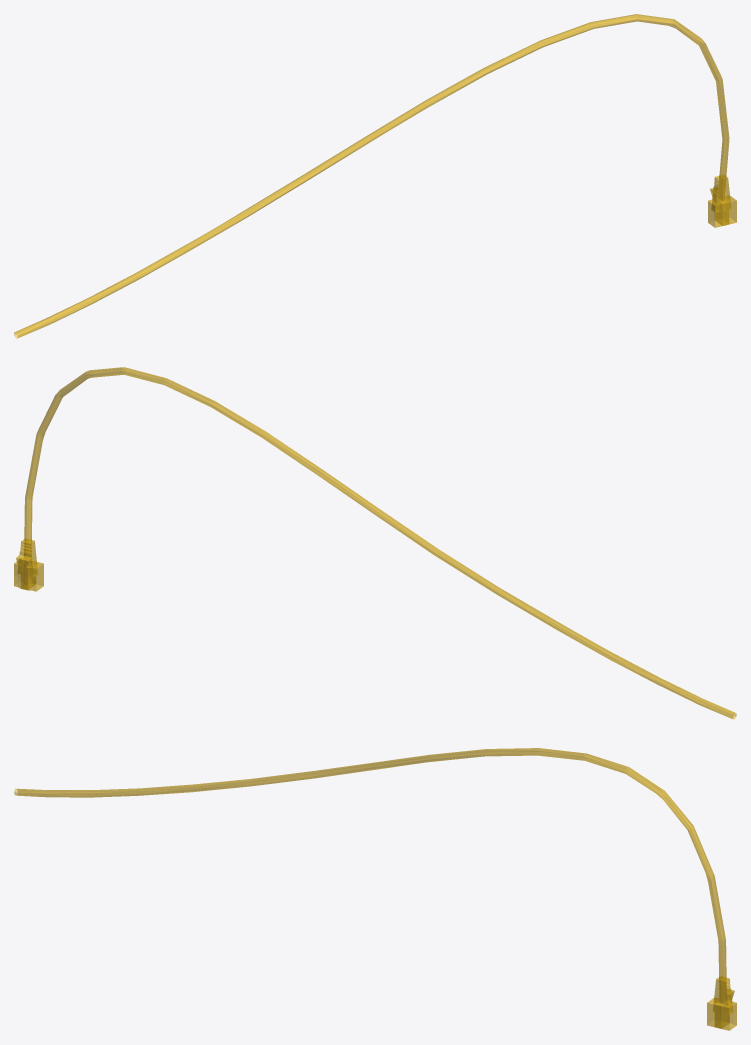
Rendered from CABLE_ETH_MODEL.glb.
3 views of the same model, one above another, from view 1: azimuth 30°, elevation 25°; view 2: azimuth 150°, elevation 25°; view 3: azimuth 330°, elevation 25° (orthographic). The views are drawn at different scales.
Parts seen in each view (by area): view 1: CABLE_ETH_MODEL, CABLE_ETH_CONNECTOR; view 2: CABLE_ETH_MODEL, CABLE_ETH_CONNECTOR; view 3: CABLE_ETH_MODEL, CABLE_ETH_CONNECTOR.
Boxes of the visible parts, x1,y1,x2,y2 form: CABLE_ETH_MODEL: (14, 14, 729, 338); CABLE_ETH_CONNECTOR: (708, 175, 736, 227); CABLE_ETH_MODEL: (24, 367, 736, 719); CABLE_ETH_CONNECTOR: (14, 539, 43, 591); CABLE_ETH_MODEL: (14, 748, 726, 1019); CABLE_ETH_CONNECTOR: (707, 976, 736, 1030).
Bounding box in the file's own units: 0.3676 × 0.1158 × 0.0162.
